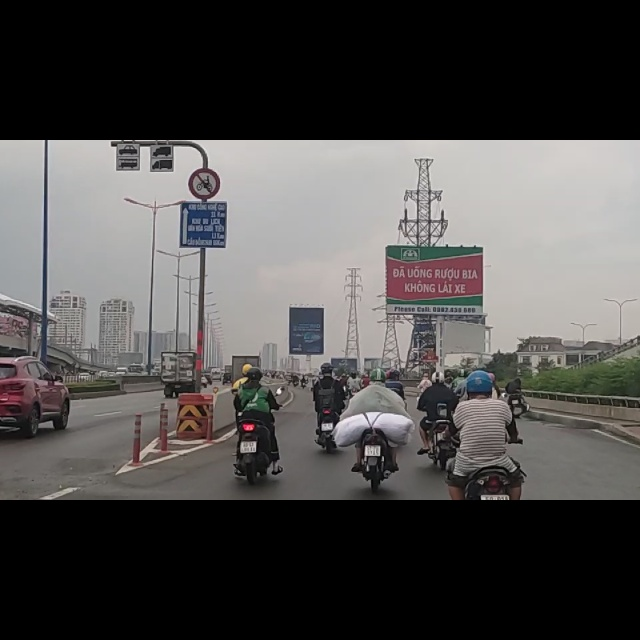bien_cam: (188, 50, 221, 104)
